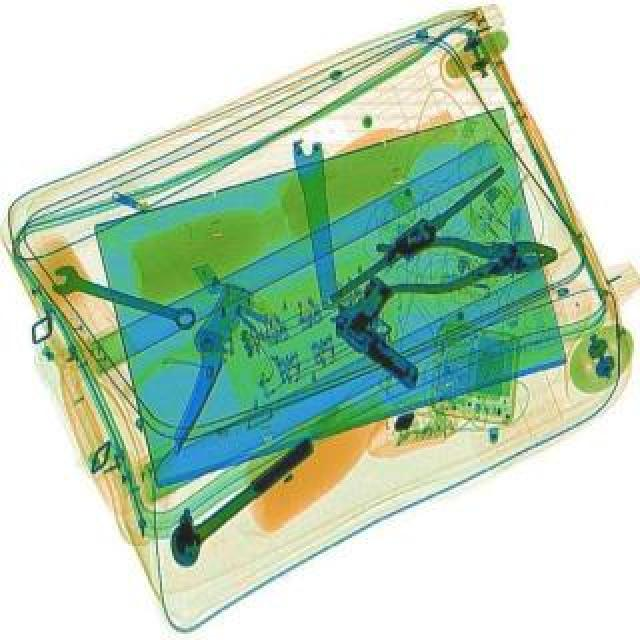gun: (318, 274, 458, 396)
scissors: (44, 264, 200, 338)
wrench: (372, 228, 560, 302)
